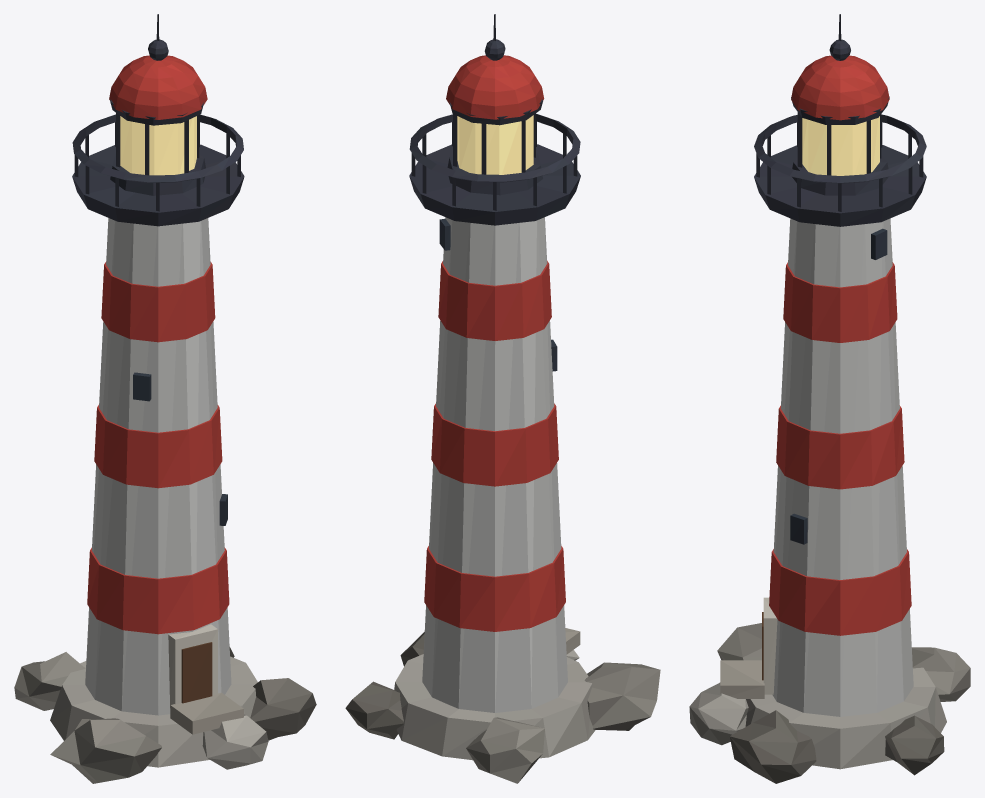
File: phare.glb
The picture shows the model from 3 angles, left to right: view 1: azimuth 30°, elevation 25°; view 2: azimuth 150°, elevation 25°; view 3: azimuth 270°, elevation 25°; orthographic projection.
Size of the model in its own units: 5.1 by 14 by 4.92.
